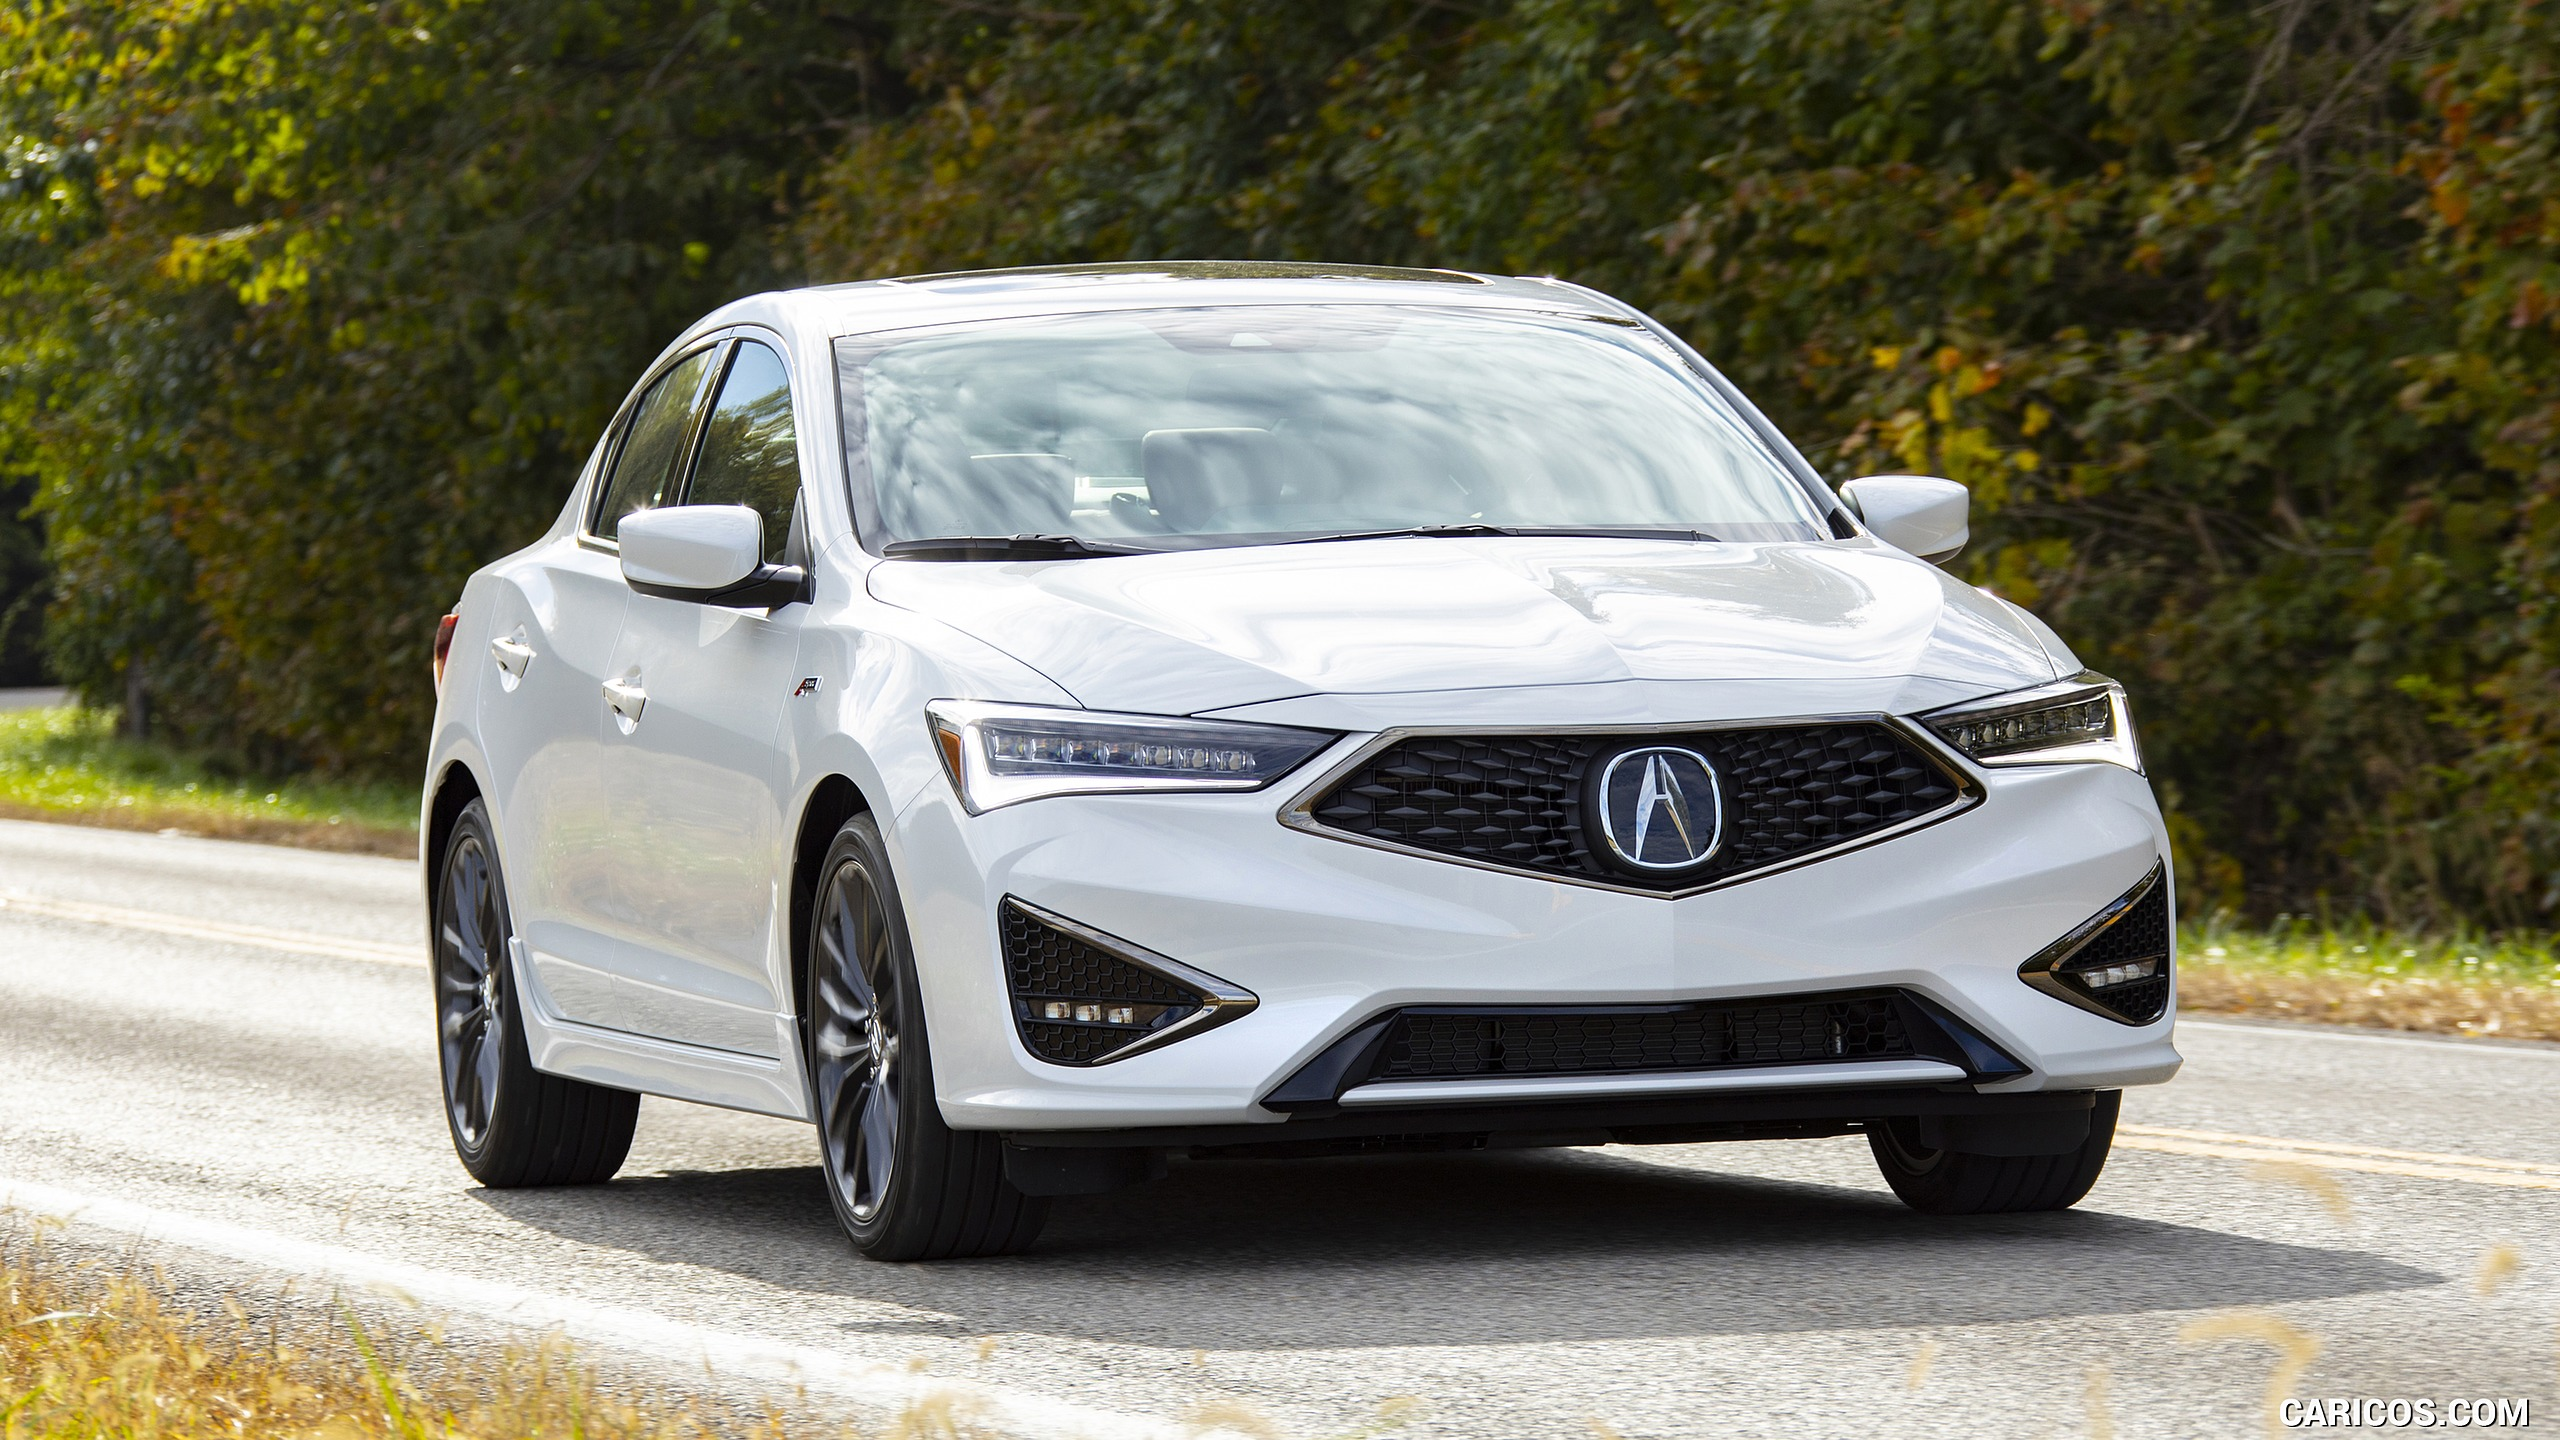Fog Lamp & Scope: (979, 927, 1217, 1071)
Front: (832, 557, 2184, 1136)
Front Bumper: (918, 876, 2182, 1101)
Grill: (1331, 740, 1936, 884)
Headlight: (927, 702, 1301, 816)
